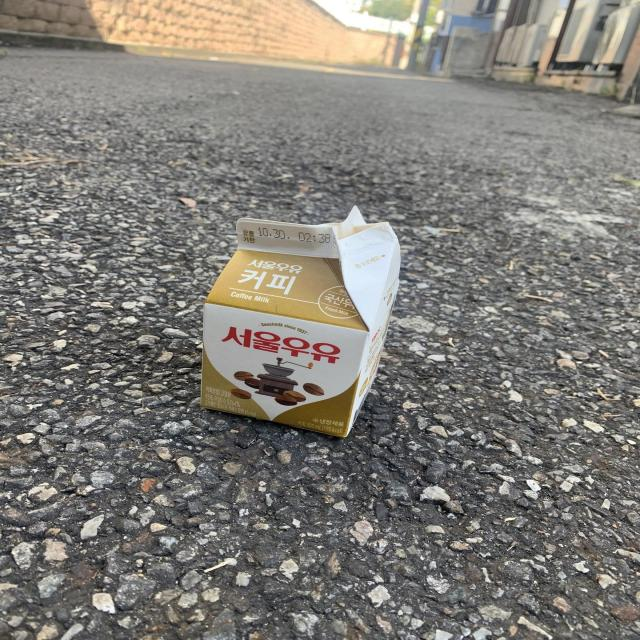paperpack: (200, 206, 401, 437)
